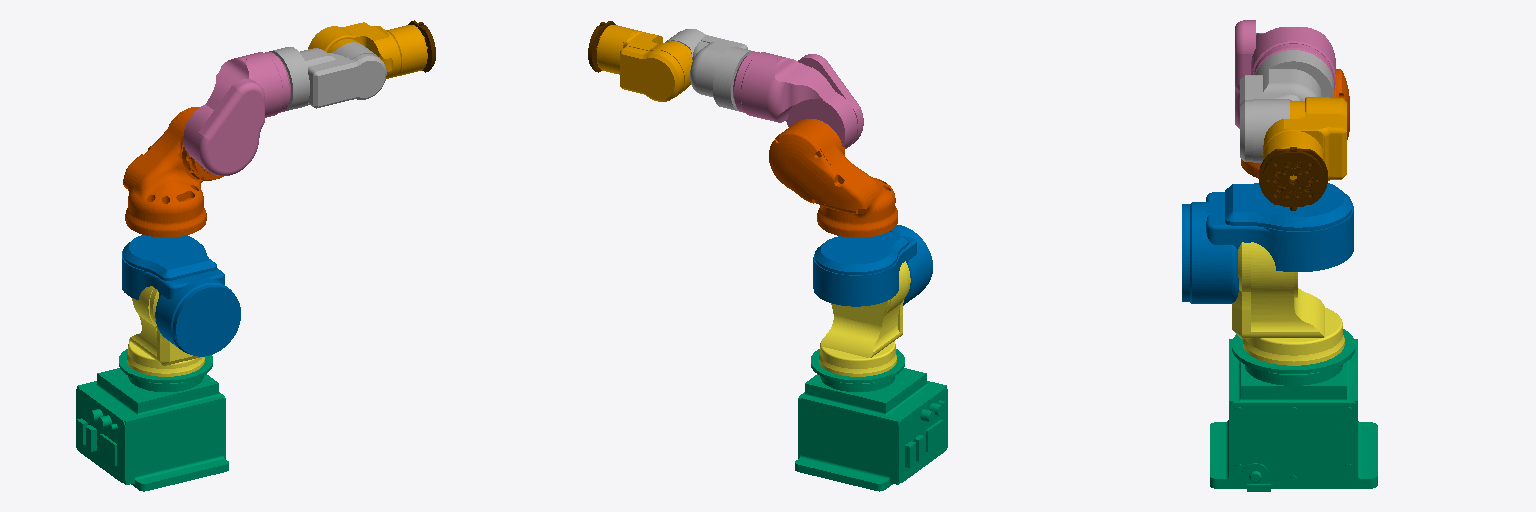
robot.urdf — sia5:
<?xml version="1.0" ?>
<!-- =================================================================================== -->
<!-- |    This document was autogenerated by xacro from sia5_with_table.urdf.xacro     | -->
<!-- |    EDITING THIS FILE BY HAND IS NOT RECOMMENDED                                 | -->
<!-- =================================================================================== -->
<robot name="sia5" xmlns:xacro="http://ros.org/wiki/xacro">
  <!-- File Include -->
  <material name="black">
    <color rgba="0.0 0.0 0.0 1.0"/>
  </material>
  <material name="blue">
    <color rgba="0.0 0.0 0.8 1.0"/>
  </material>
  <material name="green">
    <color rgba="0.0 0.8 0.0 1.0"/>
  </material>
  <material name="grey">
    <color rgba="0.2 0.2 0.2 1.0"/>
  </material>
  <material name="orange">
    <color rgba="1.0 0.423529411765 0.0392156862745 1.0"/>
  </material>
  <material name="brown">
    <color rgba="0.870588235294 0.811764705882 0.764705882353 1.0"/>
  </material>
  <material name="red">
    <color rgba="0.8 0.0 0.0 1.0"/>
  </material>
  <material name="white">
    <color rgba="1.0 1.0 1.0 1.0"/>
  </material>
  <!-- Mass -->
  <!-- about mass rate -->
  <!-- Hard ware limits -->
  <!-- Range limits -->
  <!-- Velocity limits -->
  <!-- link -->
  <link name="world"/>
  <link name="table_link">
    <visual>
      <geometry>
        <mesh filename="package://motoman_description/meshes/sia5/visual/COLLADA/table_link.dae"/>
      </geometry>
    </visual>
    <collision>
      <origin rpy="0 0 0" xyz="0 0 -0.245"/>
      <geometry>
        <box size="1.116 0.676 0.5"/>
      </geometry>
    </collision>
    <inertial>
      <origin rpy="0 0 0" xyz="0.2 0 0.245"/>
      <mass value="40.0"/>
      <inertia ixx="2.35658666667" ixy="0" ixz="0" iyy="4.98485333333" iyz="0" izz="5.67477333333"/>
    </inertial>
  </link>
  <link name="base_link">
    <visual>
      <geometry>
        <mesh filename="package://motoman_description/meshes/sia5/visual/COLLADA/base_link.dae"/>
      </geometry>
    </visual>
    <collision>
      <geometry>
        <mesh filename="package://motoman_description/meshes/sia5/collision/STL/base_link.stl"/>
      </geometry>
    </collision>
    <inertial>
      <origin rpy="0 0 0" xyz="-0.025918 -0.000376 0.076105"/>
      <mass value="9.23913043478"/>
      <inertia ixx="0.0378685009058" ixy="0" ixz="0" iyy="0.0465867830616" iyz="0" izz="0.0514065294384"/>
    </inertial>
  </link>
  <link name="link_s">
    <visual>
      <geometry>
        <mesh filename="package://motoman_description/meshes/sia5/visual/COLLADA/link_s.dae"/>
      </geometry>
    </visual>
    <collision>
      <geometry>
        <mesh filename="package://motoman_description/meshes/sia5/collision/STL/link_s.stl"/>
      </geometry>
    </collision>
    <inertial>
      <origin rpy="0 0 0" xyz="0 0 0"/>
      <mass value="8.36956521739"/>
      <inertia ixx="0.1285284" ixy="0" ixz="0" iyy="0.127697251956" iyz="0" izz="0.0186623672464"/>
    </inertial>
  </link>
  <link name="link_l">
    <visual>
      <geometry>
        <mesh filename="package://motoman_description/meshes/sia5/visual/COLLADA/link_l.dae"/>
      </geometry>
    </visual>
    <collision>
      <geometry>
        <mesh filename="package://motoman_description/meshes/sia5/collision/STL/link_l.stl"/>
      </geometry>
    </collision>
    <inertial>
      <origin rpy="3.14159274 0 0" xyz="0 -0.006 0.15"/>
      <mass value="7.60869565217"/>
      <inertia ixx="0.12248884058" ixy="0" ixz="0" iyy="0.117554616667" iyz="0" izz="0.0177495804348"/>
    </inertial>
  </link>
  <link name="link_e">
    <visual>
      <geometry>
        <mesh filename="package://motoman_description/meshes/sia5/visual/COLLADA/link_e.dae"/>
      </geometry>
    </visual>
    <collision>
      <geometry>
        <mesh filename="package://motoman_description/meshes/sia5/collision/STL/link_e.stl"/>
      </geometry>
    </collision>
    <inertial>
      <origin rpy="0 0 -1.57079637" xyz="0 0 0"/>
      <mass value="1.30434782609"/>
      <inertia ixx="0.0122899381739" ixy="0" ixz="0" iyy="0.0117127787826" iyz="0" izz="0.00344401234783"/>
    </inertial>
  </link>
  <link name="link_u">
    <visual>
      <geometry>
        <mesh filename="package://motoman_description/meshes/sia5/visual/COLLADA/link_u.dae"/>
      </geometry>
    </visual>
    <collision>
      <geometry>
        <mesh filename="package://motoman_description/meshes/sia5/collision/STL/link_u.stl"/>
      </geometry>
    </collision>
    <inertial>
      <origin rpy="-3.14159274 1.57079637 0" xyz="0.008 -0.06 -0.131"/>
      <mass value="1.08695652174"/>
      <inertia ixx="0.0110207115768" ixy="0" ixz="0" iyy="0.00996803594202" iyz="0" izz="0.00214043853333"/>
    </inertial>
  </link>
  <link name="link_r">
    <visual>
      <geometry>
        <mesh filename="package://motoman_description/meshes/sia5/visual/COLLADA/link_r.dae"/>
      </geometry>
    </visual>
    <collision>
      <geometry>
        <mesh filename="package://motoman_description/meshes/sia5/collision/STL/link_r.stl"/>
      </geometry>
    </collision>
    <inertial>
      <origin rpy="0 0 -1.57079637" xyz="0 0 0"/>
      <mass value="0.978260869565"/>
      <inertia ixx="0.0108400832201" ixy="0" ixz="0" iyy="0.010708873981" iyz="0" izz="0.00140456861413"/>
    </inertial>
  </link>
  <link name="link_b">
    <visual>
      <geometry>
        <mesh filename="package://motoman_description/meshes/sia5/visual/COLLADA/link_b.dae"/>
      </geometry>
    </visual>
    <collision>
      <geometry>
        <mesh filename="package://motoman_description/meshes/sia5/collision/STL/link_b.stl"/>
      </geometry>
    </collision>
    <inertial>
      <origin rpy="1.57079637 -1.57079637 0" xyz="0 0.0045 0.1365"/>
      <mass value="0.869565217391"/>
      <inertia ixx="0.00814341869565" ixy="0" ixz="0" iyy="0.00709473869565" iyz="0" izz="0.000736577391304"/>
    </inertial>
  </link>
  <link name="link_t">
    <visual>
      <geometry>
        <mesh filename="package://motoman_description/meshes/sia5/visual/COLLADA/link_t.dae"/>
      </geometry>
    </visual>
    <collision>
      <geometry>
        <mesh filename="package://motoman_description/meshes/sia5/collision/STL/link_t.stl"/>
      </geometry>
    </collision>
    <inertial>
      <mass value="0.54347826087"/>
      <inertia ixx="0.003" ixy="0" ixz="0" iyy="0.003" iyz="0" izz="0.001"/>
    </inertial>
  </link>
  <link name="tool0"/>
  <!-- joint -->
  <joint name="world" type="fixed">
    <parent link="world"/>
    <child link="table_link"/>
    <origin xyz="0 0 0.51"/>
  </joint>
  <joint name="joint_base" type="fixed">
    <parent link="table_link"/>
    <child link="base_link"/>
  </joint>
  <joint name="joint_s" type="revolute">
    <origin rpy="0 0 0" xyz="0 0 0.1765"/>
    <parent link="base_link"/>
    <child link="link_s"/>
    <axis xyz="0 0 1"/>
    <dynamics damping="0.7" friction="0.7"/>
    <limit effort="30.0" lower="-3.14159256547" upper="3.14159256547" velocity="3.4906586"/>
  </joint>
  <joint name="joint_l" type="revolute">
    <origin rpy="0 0 0" xyz="0 0.006 0.136"/>
    <parent link="link_s"/>
    <child link="link_l"/>
    <axis xyz="0 1 0"/>
    <dynamics damping="0.7" friction="0.7"/>
    <limit effort="30.0" lower="-1.91986223" upper="1.91986223" velocity="3.4906586"/>
  </joint>
  <joint name="joint_e" type="revolute">
    <origin rpy="0 0 0" xyz="0 -0.006 0.15"/>
    <parent link="link_l"/>
    <child link="link_e"/>
    <axis xyz="0 0 1"/>
    <dynamics damping="0.7" friction="0.7"/>
    <limit effort="30.0" lower="-2.96705981" upper="2.96705981" velocity="3.4906586"/>
  </joint>
  <joint name="joint_u" type="revolute">
    <origin rpy="1.57079637 0 0" xyz="0.085 -0.00826931 0.12275299"/>
    <parent link="link_e"/>
    <child link="link_u"/>
    <axis xyz="0 0 1"/>
    <dynamics damping="0.7" friction="0.7"/>
    <limit effort="30.0" lower="-1.57079637" upper="2.007128695" velocity="3.4906586"/>
  </joint>
  <joint name="joint_r" type="revolute">
    <origin rpy="0 1.57079637 0" xyz="0.131 0.06 -0.008"/>
    <parent link="link_u"/>
    <child link="link_r"/>
    <axis xyz="0 0 -1"/>
    <dynamics damping="0.7" friction="0.7"/>
    <limit effort="14.7" lower="-3.14159256547" upper="3.14159256547" velocity="3.4906586"/>
  </joint>
  <joint name="joint_b" type="revolute">
    <origin rpy="0 -1.57079637 0" xyz="-0.0045 0 0.139"/>
    <parent link="link_r"/>
    <child link="link_b"/>
    <axis xyz="0 0 1"/>
    <dynamics damping="0.7" friction="0.7"/>
    <limit effort="14.7" lower="-1.91986223" upper="1.91986223" velocity="4.01425739"/>
  </joint>
  <joint name="joint_t" type="revolute">
    <origin rpy="-1.57079637 0 0" xyz="0.1365 0 -0.0045"/>
    <parent link="link_b"/>
    <child link="link_t"/>
    <axis xyz="-1 0 0"/>
    <dynamics damping="0.7" friction="0.7"/>
    <limit effort="7.35" lower="-3.14159256547" upper="3.14159256547" velocity="6.10865255"/>
  </joint>
  <joint name="joint_tool0" type="fixed">
    <origin rpy="0 0 0" xyz="0.0115 0 0"/>
    <parent link="link_t"/>
    <child link="tool0"/>
  </joint>
  <!-- transmission -->
  <transmission name="transmission_s">
    <type>transmission_interface/SimpleTransmission</type>
    <joint name="joint_s">
      <hardwareInterface>PositionJointInterface</hardwareInterface>
    </joint>
    <actuator name="motor_s">
      <hardwareInterface>PositionJointInterface</hardwareInterface>
      <mechanicalReduction>1</mechanicalReduction>
    </actuator>
  </transmission>
  <transmission name="transmission_l">
    <type>transmission_interface/SimpleTransmission</type>
    <joint name="joint_l">
      <hardwareInterface>PositionJointInterface</hardwareInterface>
    </joint>
    <actuator name="motor_l">
      <hardwareInterface>PositionJointInterface</hardwareInterface>
      <mechanicalReduction>1</mechanicalReduction>
    </actuator>
  </transmission>
  <transmission name="transmission_e">
    <type>transmission_interface/SimpleTransmission</type>
    <joint name="joint_e">
      <hardwareInterface>PositionJointInterface</hardwareInterface>
    </joint>
    <actuator name="motor_e">
      <hardwareInterface>PositionJointInterface</hardwareInterface>
      <mechanicalReduction>1</mechanicalReduction>
    </actuator>
  </transmission>
  <transmission name="transmission_u">
    <type>transmission_interface/SimpleTransmission</type>
    <joint name="joint_u">
      <hardwareInterface>PositionJointInterface</hardwareInterface>
    </joint>
    <actuator name="motor_u">
      <hardwareInterface>PositionJointInterface</hardwareInterface>
      <mechanicalReduction>1</mechanicalReduction>
    </actuator>
  </transmission>
  <transmission name="transmission_r">
    <type>transmission_interface/SimpleTransmission</type>
    <joint name="joint_r">
      <hardwareInterface>PositionJointInterface</hardwareInterface>
    </joint>
    <actuator name="motor_r">
      <hardwareInterface>PositionJointInterface</hardwareInterface>
      <mechanicalReduction>1</mechanicalReduction>
    </actuator>
  </transmission>
  <transmission name="transmission_b">
    <type>transmission_interface/SimpleTransmission</type>
    <joint name="joint_b">
      <hardwareInterface>PositionJointInterface</hardwareInterface>
    </joint>
    <actuator name="motor_b">
      <hardwareInterface>PositionJointInterface</hardwareInterface>
      <mechanicalReduction>1</mechanicalReduction>
    </actuator>
  </transmission>
  <transmission name="transmission_t">
    <type>transmission_interface/SimpleTransmission</type>
    <joint name="joint_t">
      <hardwareInterface>PositionJointInterface</hardwareInterface>
    </joint>
    <actuator name="motor_t">
      <hardwareInterface>PositionJointInterface</hardwareInterface>
      <mechanicalReduction>1</mechanicalReduction>
    </actuator>
  </transmission>
  <!-- gazebo -->
  <gazebo>
    <plugin filename="libgazebo_ros_control.so" name="gazebo_ros_control">
      <robotSimType>gazebo_ros_control/DefaultRobotHWSim</robotSimType>
      <!-- <robotSimType>rosbook_arm_hardware_gazebo/ROSBookArmHardwareGazebo</robotSimType> -->
    </plugin>
  </gazebo>
  <gazebo reference="base_link">
    <mu1>0.2</mu1>
    <mu2>0.2</mu2>
    <selfCollide>true</selfCollide>
  </gazebo>
  <gazebo reference="link_s">
    <mu1>0.2</mu1>
    <mu2>0.2</mu2>
    <selfCollide>true</selfCollide>
  </gazebo>
  <gazebo reference="link_l">
    <mu1>0.2</mu1>
    <mu2>0.2</mu2>
    <selfCollide>true</selfCollide>
  </gazebo>
  <gazebo reference="link_e">
    <mu1>0.2</mu1>
    <mu2>0.2</mu2>
    <selfCollide>true</selfCollide>
  </gazebo>
  <gazebo reference="link_u">
    <mu1>0.2</mu1>
    <mu2>0.2</mu2>
    <selfCollide>true</selfCollide>
  </gazebo>
  <gazebo reference="link_r">
    <mu1>0.2</mu1>
    <mu2>0.2</mu2>
    <selfCollide>true</selfCollide>
  </gazebo>
  <gazebo reference="link_b">
    <mu1>0.2</mu1>
    <mu2>0.2</mu2>
    <selfCollide>true</selfCollide>
  </gazebo>
  <gazebo reference="link_t">
    <mu1>0.2</mu1>
    <mu2>0.2</mu2>
    <selfCollide>true</selfCollide>
  </gazebo>
</robot>

--- Facts derived from the render (not from the file) ---
The picture shows the robot from 3 angles, left to right: view 1: azimuth 30°, elevation 25°; view 2: azimuth 150°, elevation 25°; view 3: azimuth 270°, elevation 25°; orthographic projection.
Robot: sia5 — 11 links, 10 joints (7 revolute, 3 fixed); root link world; default pose: all joints at 0.
Links seen in each view (by area): view 1: base_link, link_l, link_u, link_e, link_r, link_b, link_s; view 2: base_link, link_e, link_u, link_l, link_s, link_b, link_r; view 3: base_link, link_l, link_s, link_r, link_b, link_u, link_t, link_e.
Link boxes in pixels (bbox=[...]): base_link: bbox=[76, 349, 228, 491]; link_l: bbox=[122, 235, 240, 356]; link_u: bbox=[183, 52, 290, 175]; link_e: bbox=[123, 107, 223, 237]; link_r: bbox=[269, 42, 386, 111]; link_b: bbox=[308, 22, 427, 78]; link_s: bbox=[127, 286, 204, 376]; base_link: bbox=[795, 349, 947, 491]; link_e: bbox=[769, 119, 897, 237]; link_u: bbox=[733, 52, 863, 148]; link_l: bbox=[813, 225, 932, 306]; link_s: bbox=[819, 261, 910, 376]; link_b: bbox=[596, 25, 692, 101]; link_r: bbox=[665, 29, 754, 111]; base_link: bbox=[1210, 329, 1377, 491]; link_l: bbox=[1182, 183, 1353, 303]; link_s: bbox=[1232, 242, 1344, 365]; link_r: bbox=[1240, 50, 1333, 162]; link_b: bbox=[1262, 97, 1346, 180]; link_u: bbox=[1235, 20, 1335, 128]; link_t: bbox=[1259, 147, 1327, 210]; link_e: bbox=[1241, 69, 1349, 178].
Size in the robot's own frame: 0.6479 by 0.2528 by 0.7003 metres.
Meshes: 9 distinct files referenced, 8 mesh visuals loaded (8 Collada DAE); not drawn: 1 (reference not matched to a file when rendering).